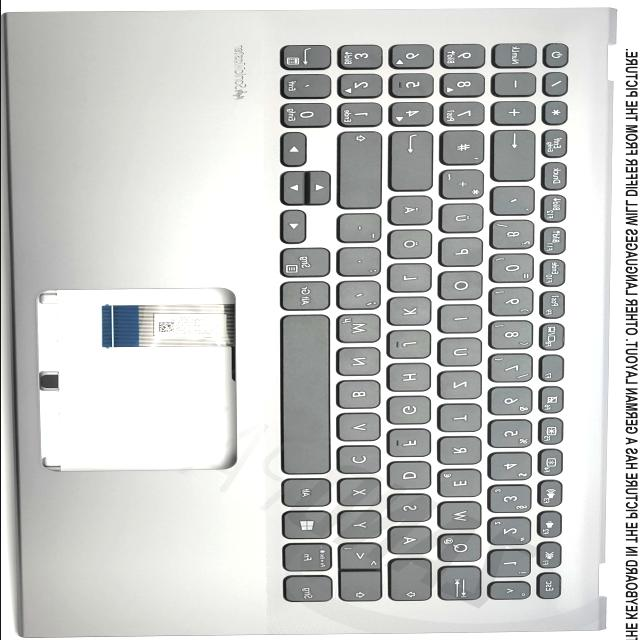0: (491, 255, 535, 284)
1: (491, 550, 533, 578)
2: (490, 518, 533, 546)
3: (489, 485, 533, 514)
4: (490, 453, 533, 481)
5: (491, 420, 534, 448)
6: (490, 388, 534, 416)
7: (490, 355, 534, 383)
8: (490, 321, 534, 350)
9: (491, 288, 535, 317)
a: (390, 527, 434, 555)
accent: (492, 187, 536, 217)
ae: (390, 196, 435, 226)
alt-left: (282, 479, 332, 508)
altgr-right: (281, 282, 331, 311)
b: (338, 380, 382, 410)
c: (339, 446, 383, 475)
caret: (490, 582, 532, 600)
comma: (339, 282, 383, 311)
d: (388, 462, 432, 490)
del: (492, 130, 538, 182)
e: (439, 470, 483, 498)
enter: (389, 130, 435, 192)
f: (389, 429, 433, 457)
g: (388, 397, 433, 425)
h: (388, 364, 433, 392)
hash: (441, 130, 485, 166)
i: (440, 305, 484, 334)
j: (388, 331, 434, 359)
k: (389, 298, 434, 327)
keyboard: (264, 31, 582, 611)
l: (389, 265, 434, 293)
less: (339, 543, 383, 570)
m: (338, 314, 382, 344)
minus: (338, 214, 382, 244)
n: (338, 347, 382, 377)
o: (440, 272, 485, 301)
oe: (389, 230, 433, 260)
p: (440, 238, 484, 267)
plus: (441, 170, 486, 200)
point: (339, 247, 382, 277)
q: (439, 534, 483, 563)
r: (440, 437, 483, 465)
s: (389, 495, 433, 523)
shift-left: (339, 572, 383, 603)
shift-lock: (389, 559, 433, 603)
shift-right: (339, 132, 385, 210)
space: (281, 315, 331, 475)
ss: (492, 221, 536, 250)
strg-left: (285, 576, 333, 604)
strg-right: (280, 247, 332, 278)
t: (440, 405, 484, 433)
tab: (439, 566, 483, 601)
u: (439, 338, 484, 367)
ue: (441, 204, 485, 234)
v: (338, 413, 382, 442)
w: (440, 502, 484, 531)
x: (339, 479, 383, 507)
y: (340, 512, 383, 540)
z: (440, 371, 484, 400)
